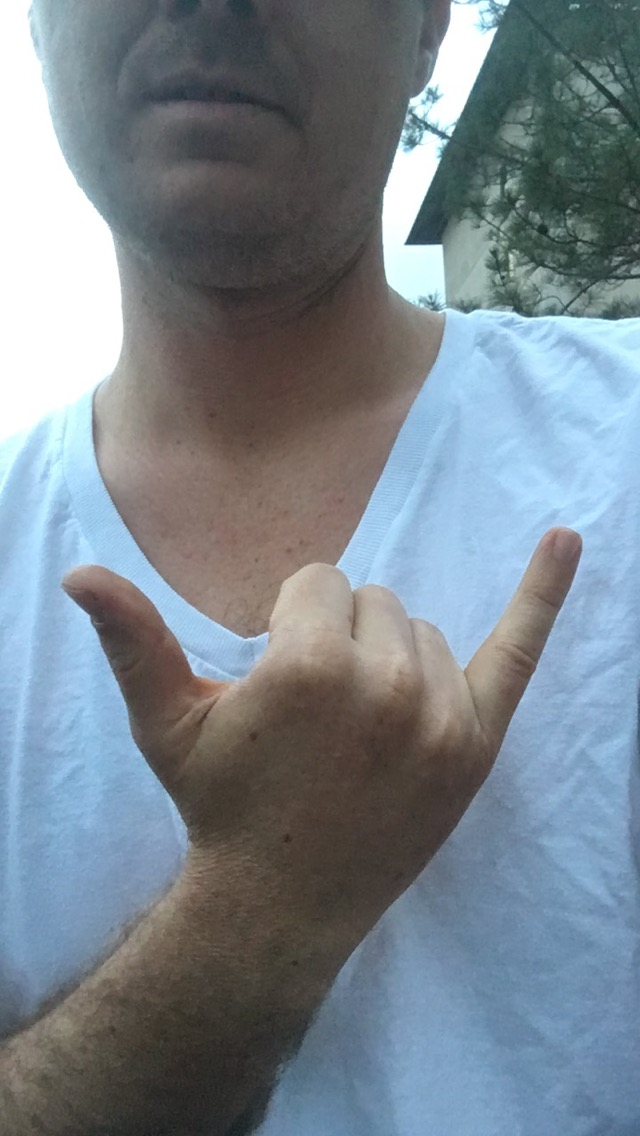defaultd: (62, 529, 589, 886)
